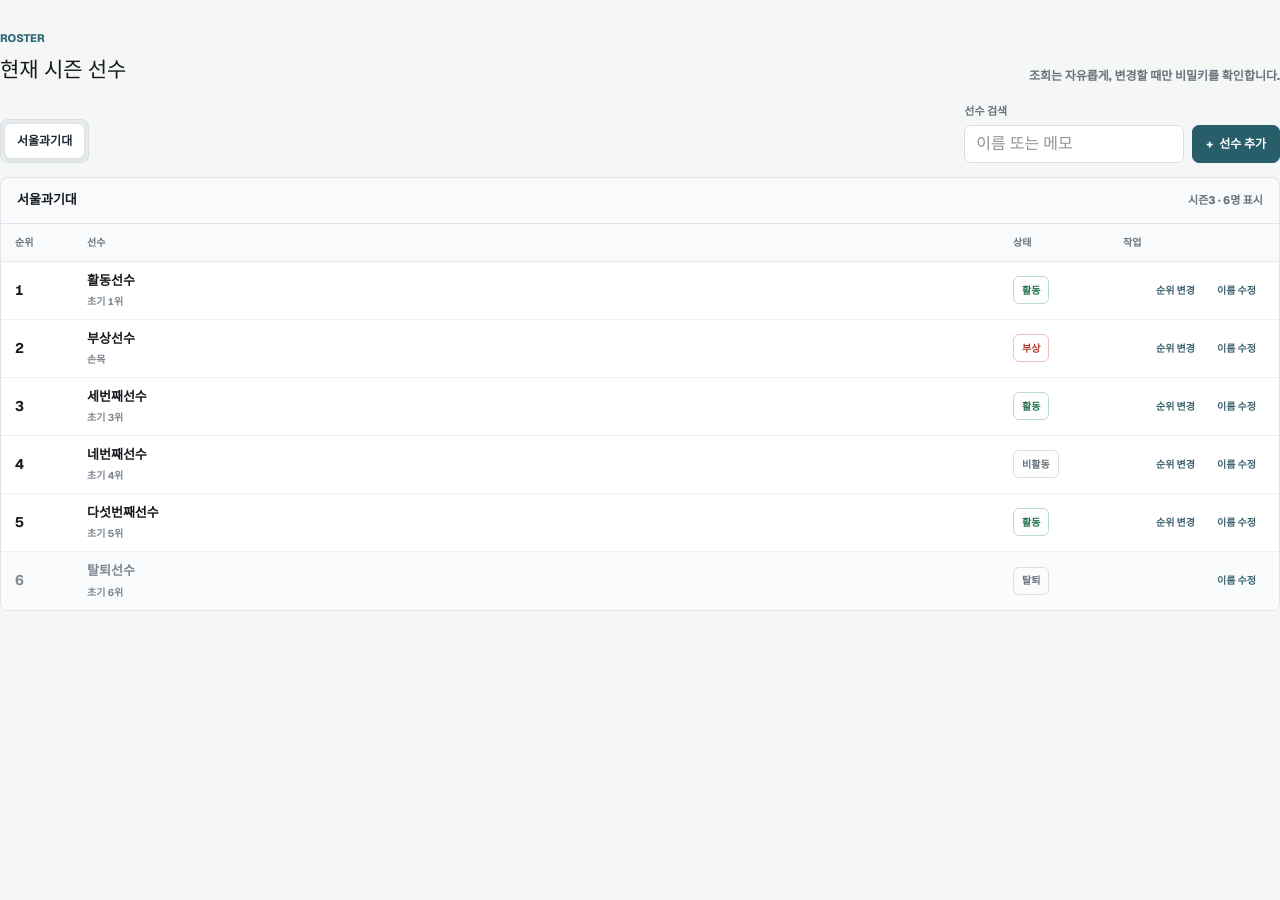
AdminPlayerManager › previews every cascading rank change before submission
Click the button with aria-label "다섯번째선수 순위 변경" at [1176, 522], box [1147,508,1204,536]
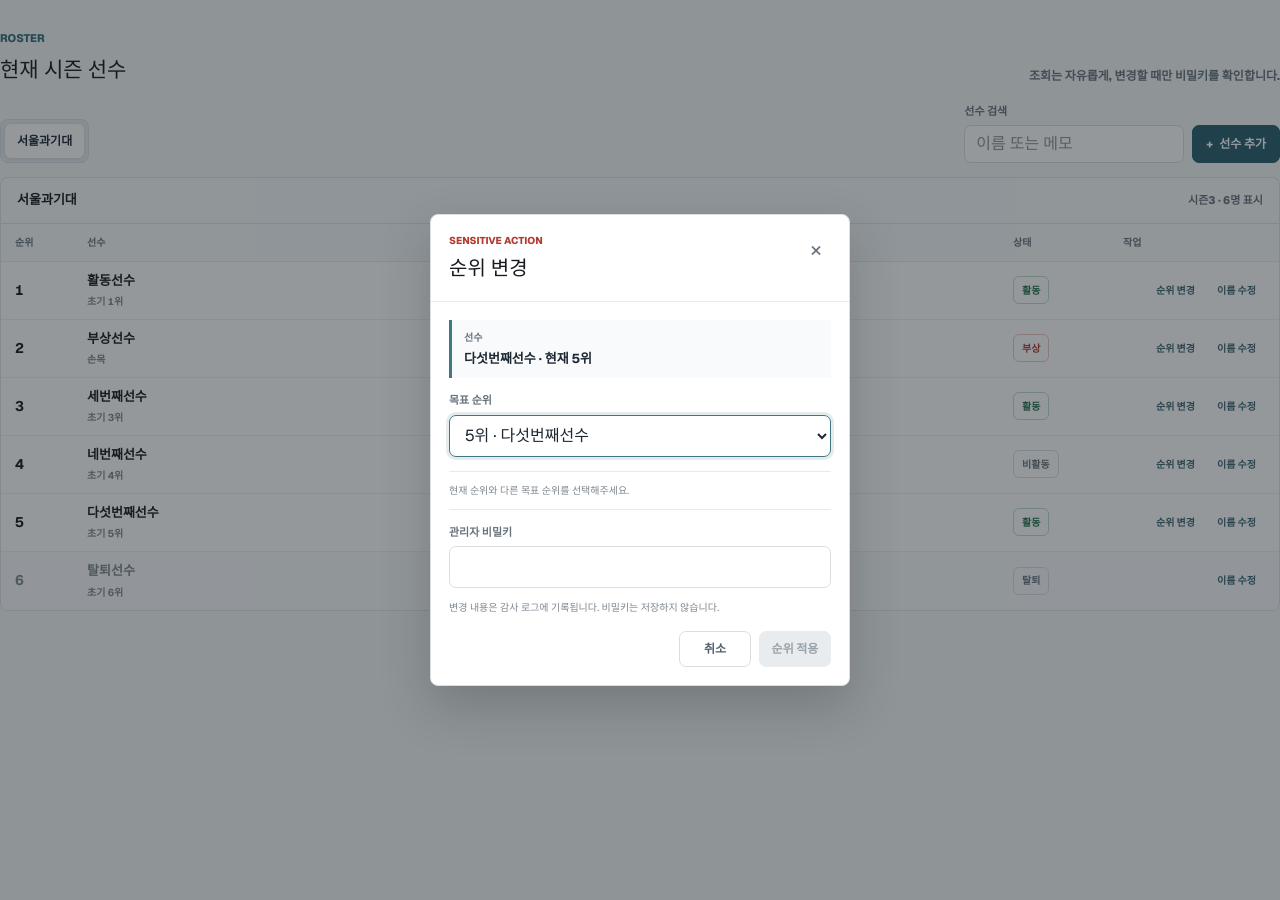
Check: the dialog "순위 변경" is shown, box [430,214,850,686]
Check: the text "다섯번째선수 · 현재 5위" is shown, box [464,350,592,367]
Check: the button "순위 적용" is disabled, box [759,631,831,667]
Select "2위 · 부상선수" in the dropdown labelled "목표 순위" at [640, 436], box [449,415,831,457]
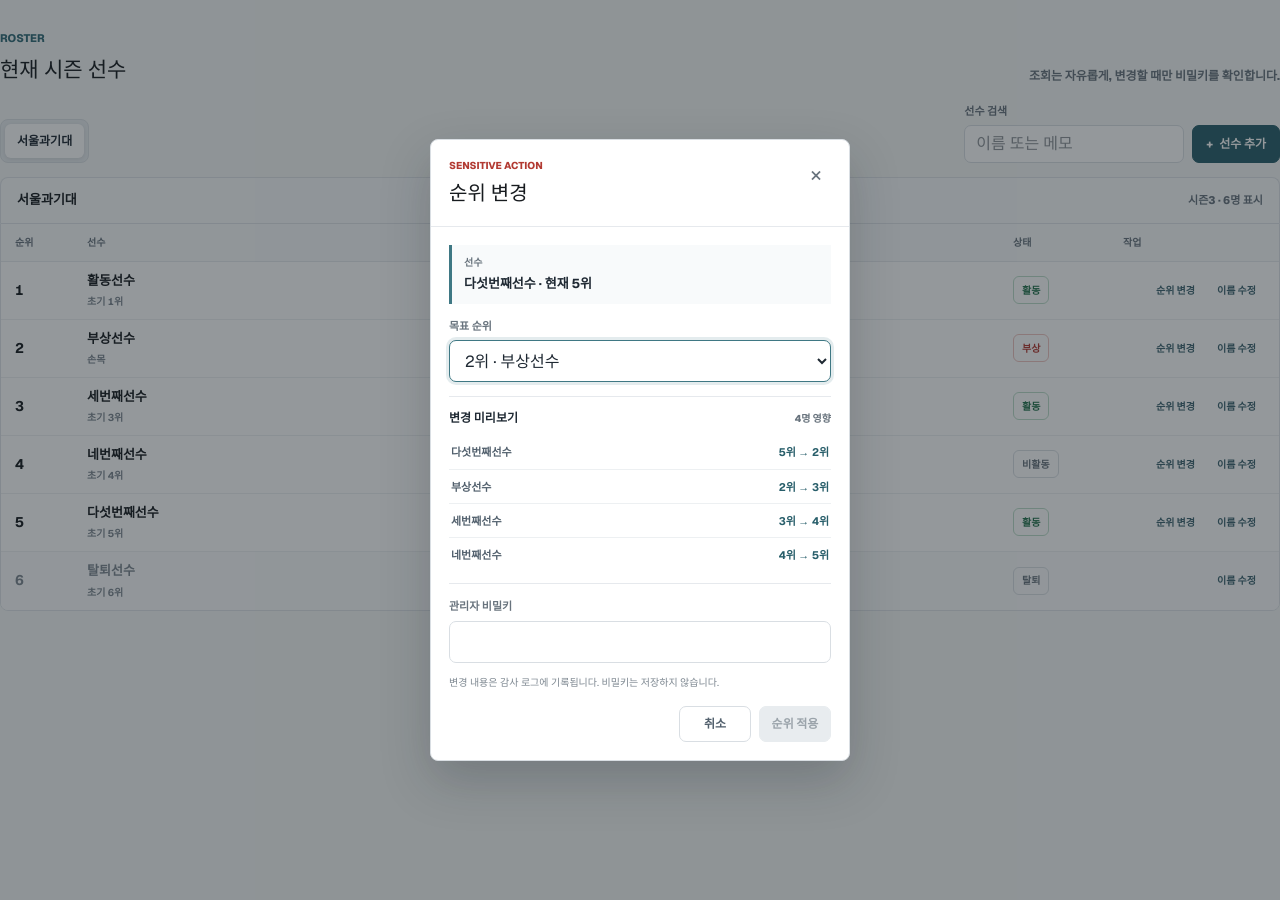
Check: the text "다섯번째선수" is shown, box [451,445,512,459]
Check: the text "5위 → 2위" is shown, box [779,444,829,460]
Check: the text "부상선수" is shown, box [451,480,492,494]
